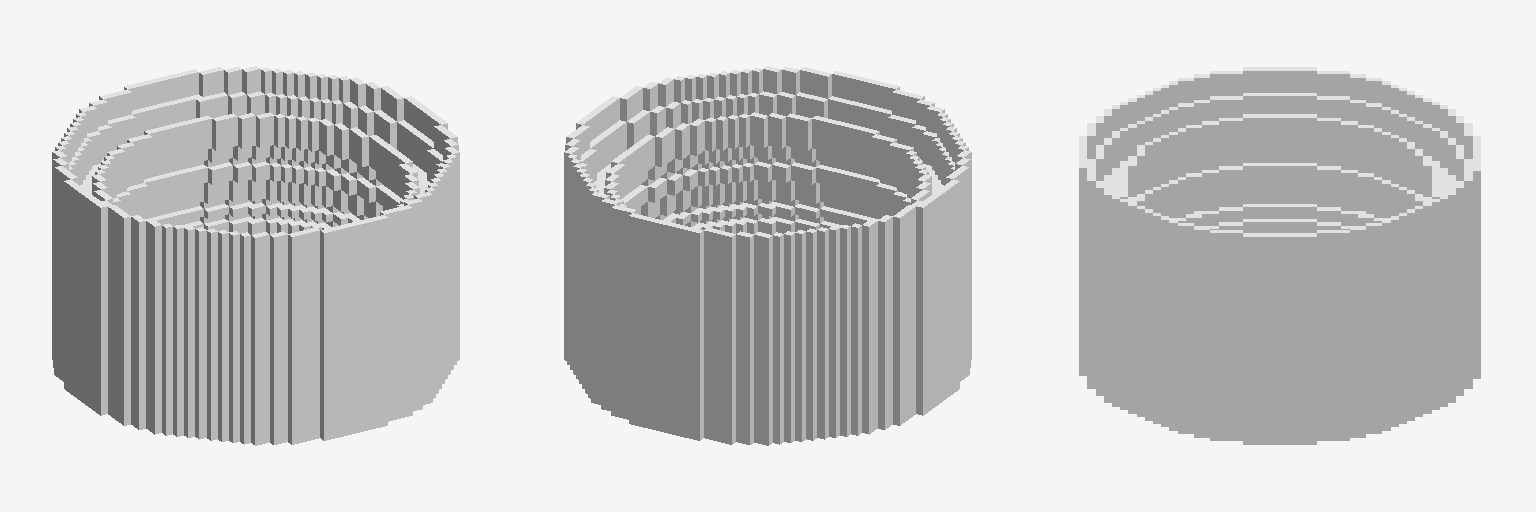
Rendered from Wall2.obj.
3 views of the same model, side by side, from view 1: azimuth 30°, elevation 25°; view 2: azimuth 150°, elevation 25°; view 3: azimuth 270°, elevation 25° (orthographic).
Size of the model in its own units: 49 by 28 by 49.